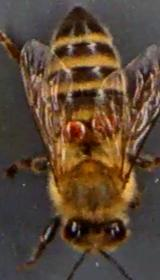varroa_mite: (59, 117, 90, 142), (91, 112, 116, 135)
